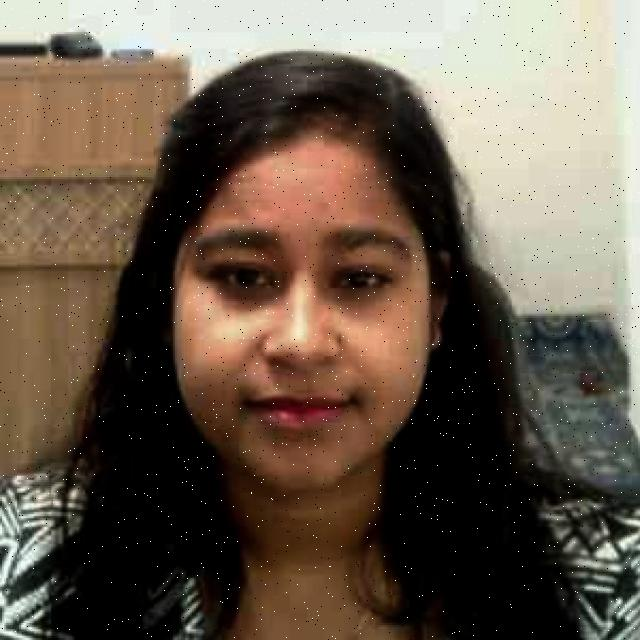puffy_eyes: (218, 270, 284, 310)
